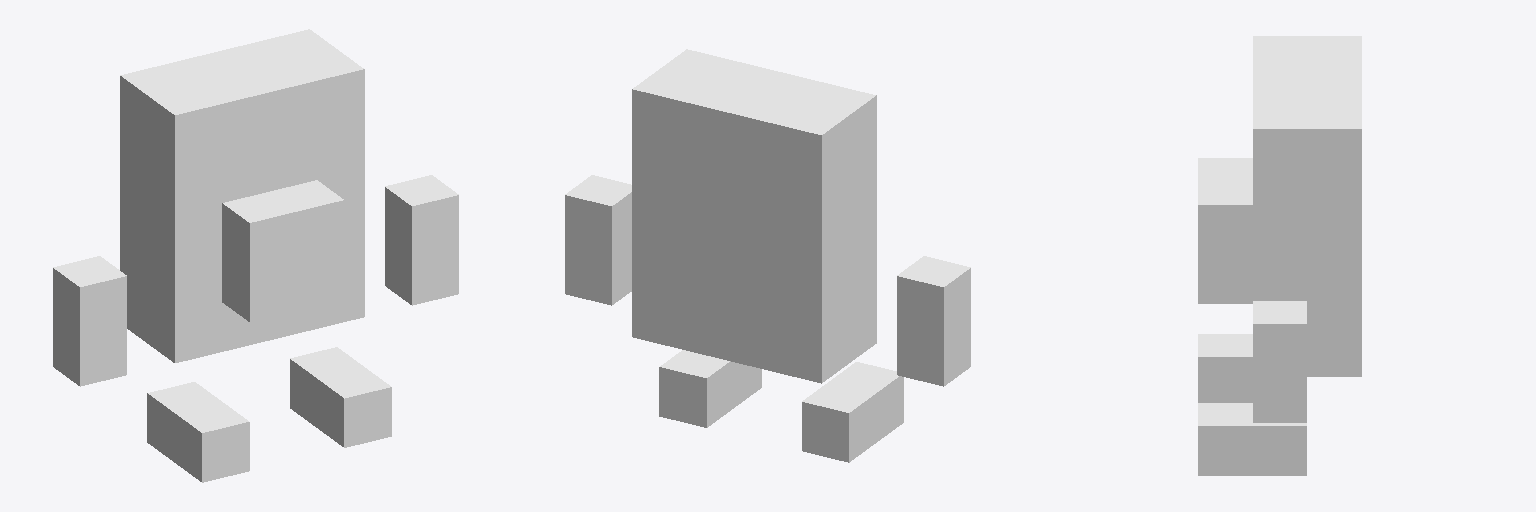
File: dwarf-0.obj
The picture shows the model from 3 angles: view 1: azimuth 30°, elevation 25°; view 2: azimuth 150°, elevation 25°; view 3: azimuth 270°, elevation 25°; orthographic projection.
Visible parts, largest first — view 1: object 1; view 2: object 1; view 3: object 1.
Part boxes in pixels (x1,y1,x2,y2): object 1: (53, 29, 458, 482); object 1: (565, 49, 970, 462); object 1: (1198, 36, 1361, 475).
Size of the model in its own units: 0.8 by 0.7 by 0.3.